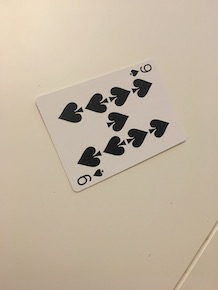NineOfSpades: (34, 57, 192, 193)
